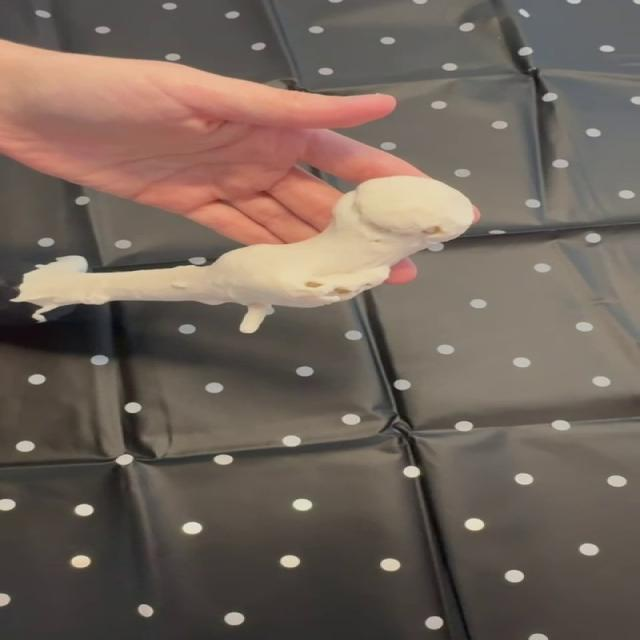bones: (0, 177, 471, 333)
